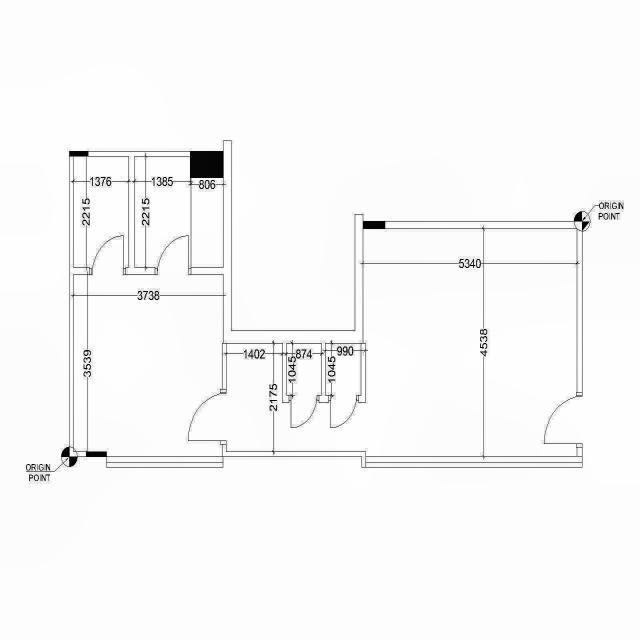Column: (190, 151, 224, 178), (362, 221, 386, 229), (70, 151, 88, 157), (86, 452, 107, 457)
Door: (543, 392, 583, 448), (186, 390, 226, 444), (154, 235, 192, 275), (89, 235, 126, 275), (288, 395, 320, 428), (328, 395, 359, 428)
Window: (366, 456, 582, 468), (106, 456, 224, 468)
